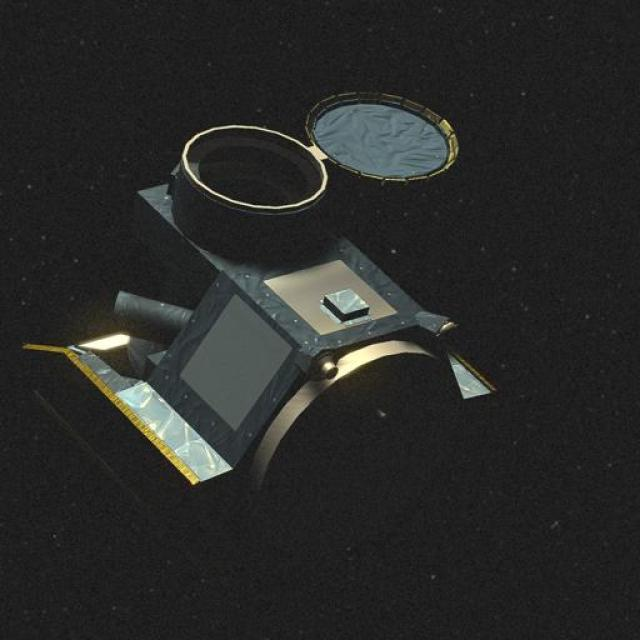debris: (13, 90, 500, 532)
